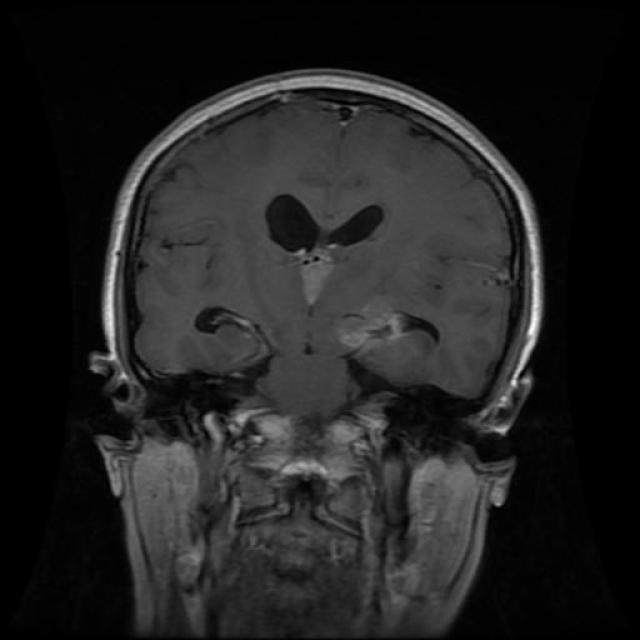glioma: (264, 192, 388, 302)
